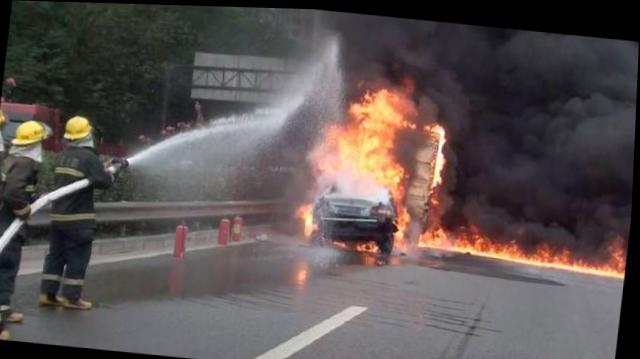fire: (349, 83, 410, 124), (348, 118, 394, 162), (431, 121, 449, 186), (531, 235, 571, 263), (608, 229, 629, 272), (376, 155, 407, 184), (326, 122, 354, 154), (483, 231, 521, 254), (452, 224, 484, 249), (421, 223, 453, 247), (570, 251, 611, 268), (393, 204, 410, 241), (299, 201, 314, 232), (357, 234, 380, 250), (518, 246, 535, 259)
